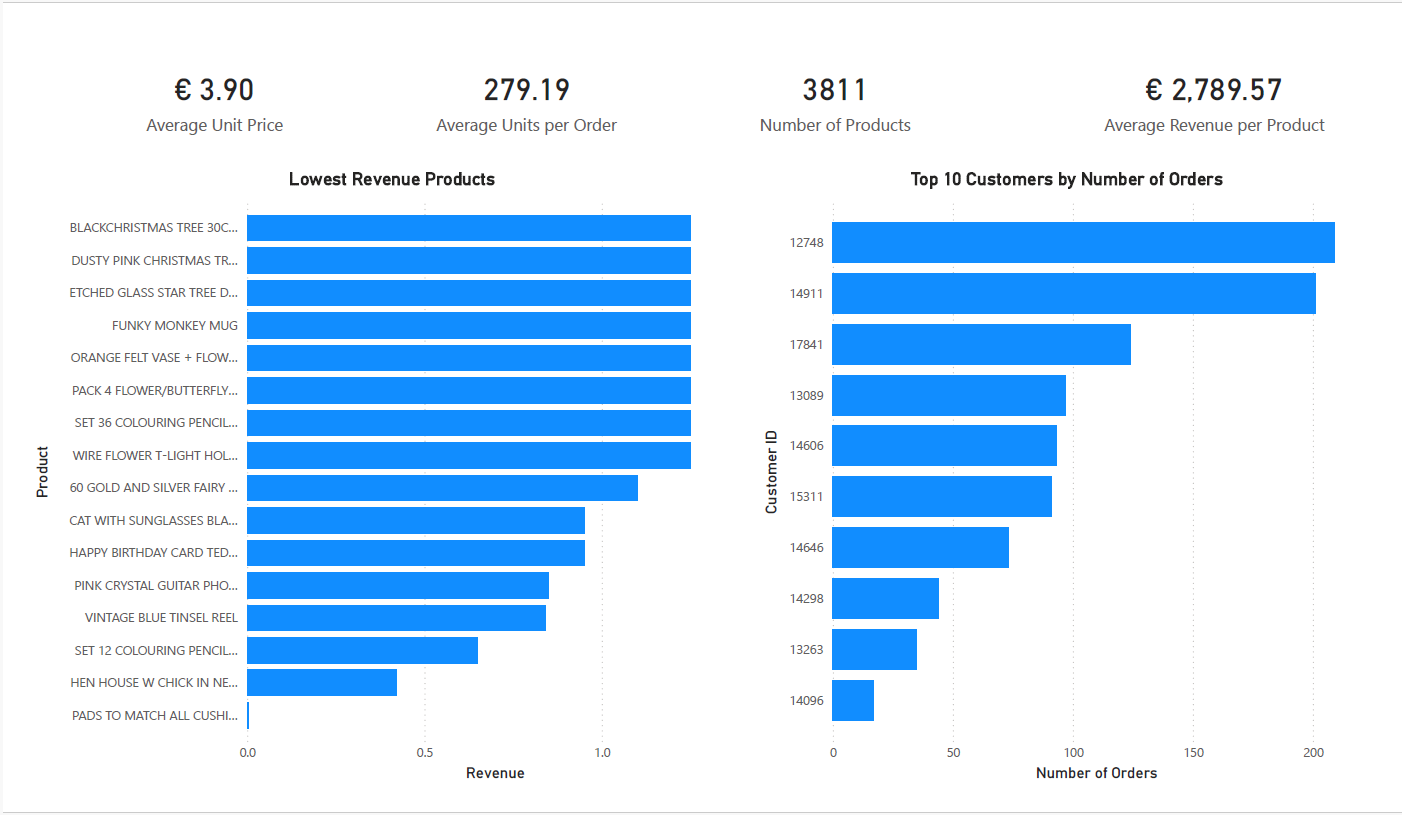

Layout of this report page (visuals, bound fields, positions):
{"tool":"powerbi","page":{"name":"Page 2","canvas":[1280,720],"ordinal":1},"visuals":[{"type":"card","fields":{"Values":["Avg(retail_sales_clean.unit_price)"]},"box":[74.1,0,205.8,133.1],"z":0},{"type":"card","fields":{"Values":["retail_sales_clean.Average Units per Order"]},"box":[345.8,0,253.9,133.1],"z":1000},{"type":"card","fields":{"Values":["Count(retail_sales_clean.product_code)"]},"box":[639.5,0,253.9,133.1],"z":2000},{"type":"card","fields":{"Values":["retail_sales_clean.Average Revenue per Product"]},"box":[986.6,0,278.6,133.1],"z":3000},{"type":"barChart","title":"Lowest Revenue Products","fields":{"Y":["Sum(retail_sales_clean.revenue)"],"Category":["retail_sales_clean.product_name"]},"box":[0,133.1,691.6,587.3],"z":4000},{"type":"barChart","title":"Top 10 Customers by Number of Orders","fields":{"Category":["retail_sales_clean.customer_id"],"Y":["Count(retail_sales_clean.order_id)"]},"box":[691.6,133.1,588.7,587.3],"z":5000}]}

Visuals, with their boxes on the page's 1280x720 design canvas (x1, y1, x2, y2). These are canvas units, not pixel positions in the 1403x815 screenshot, which may show the page scaled, cropped or inside an application window:
card - Avg(retail_sales_clean.unit_price): crop(74, 0, 280, 133)
card - retail_sales_clean.Average Units per Order: crop(346, 0, 600, 133)
card - Count(retail_sales_clean.product_code): crop(640, 0, 893, 133)
card - retail_sales_clean.Average Revenue per Product: crop(987, 0, 1265, 133)
"Lowest Revenue Products" barChart: crop(0, 133, 692, 720)
"Top 10 Customers by Number of Orders" barChart: crop(692, 133, 1280, 720)
